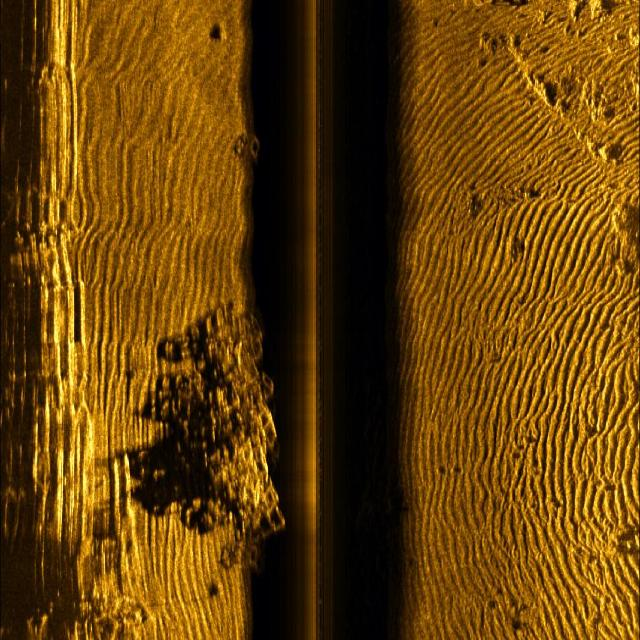artificial reef: (156, 283, 290, 588), (232, 119, 272, 186)
